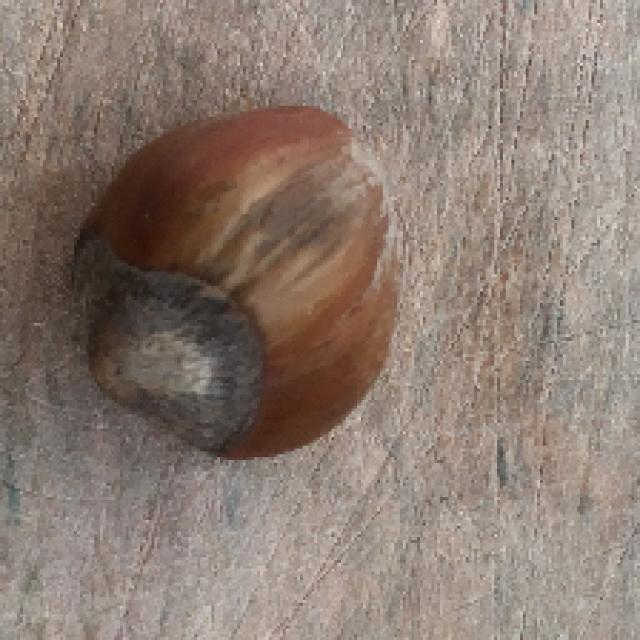qualityHazelnut: (62, 97, 412, 461)
